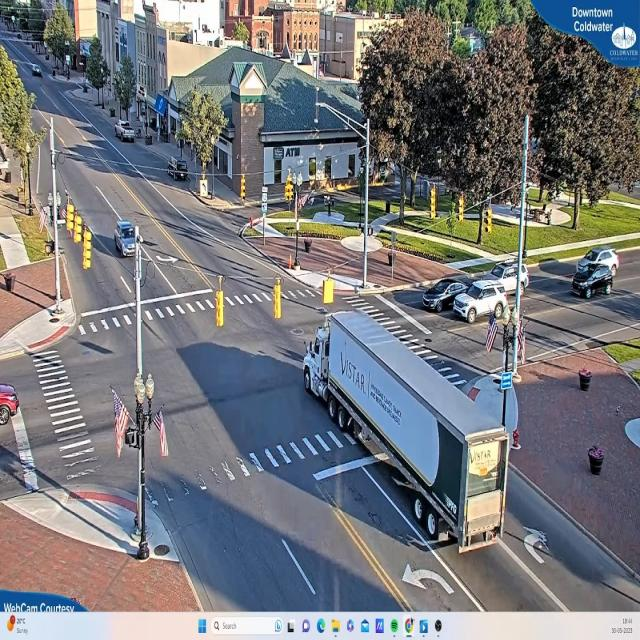car: (452, 284, 512, 325), (422, 279, 477, 312), (478, 264, 530, 296), (574, 247, 620, 278), (1, 384, 22, 424), (117, 122, 137, 145)
motorbike: (570, 266, 614, 299)
truck: (302, 314, 509, 558), (463, 556, 464, 567)
